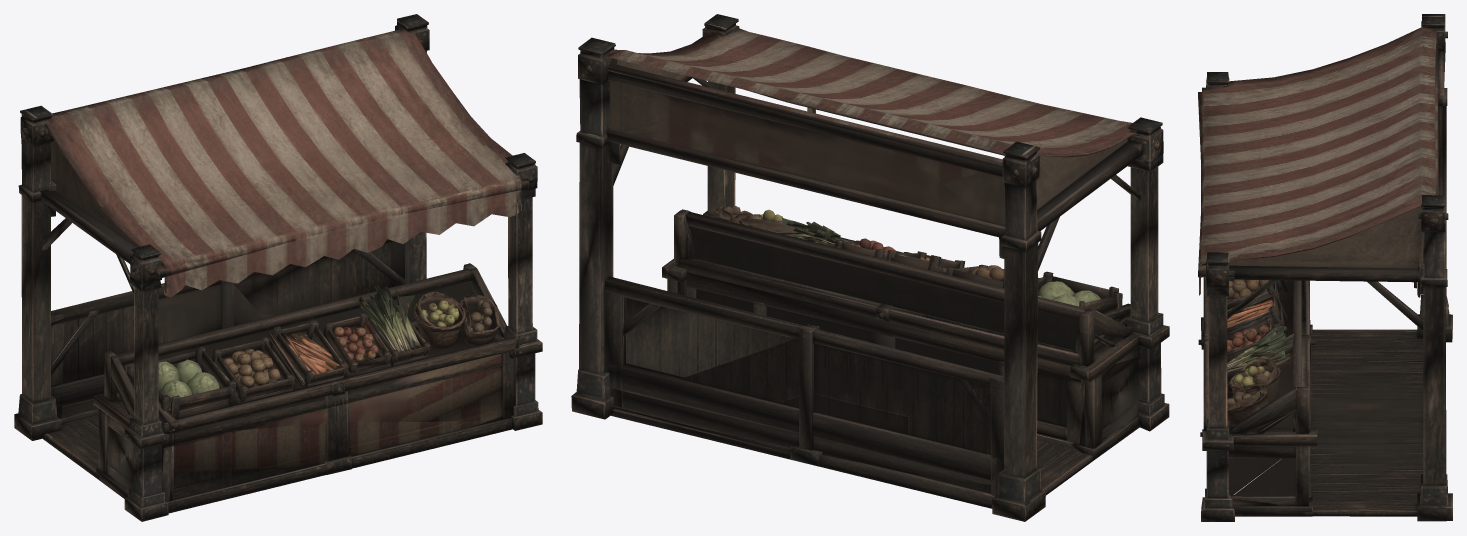
Rendered from SM_MarketStall_A.glb.
3 views of the same model, side by side, from view 1: azimuth 30°, elevation 25°; view 2: azimuth 150°, elevation 25°; view 3: azimuth 270°, elevation 25° (orthographic). The views are drawn at different scales.
Size of the model in its own units: 0.9541 by 0.7271 by 0.5298.
1 material, 1 textured.
